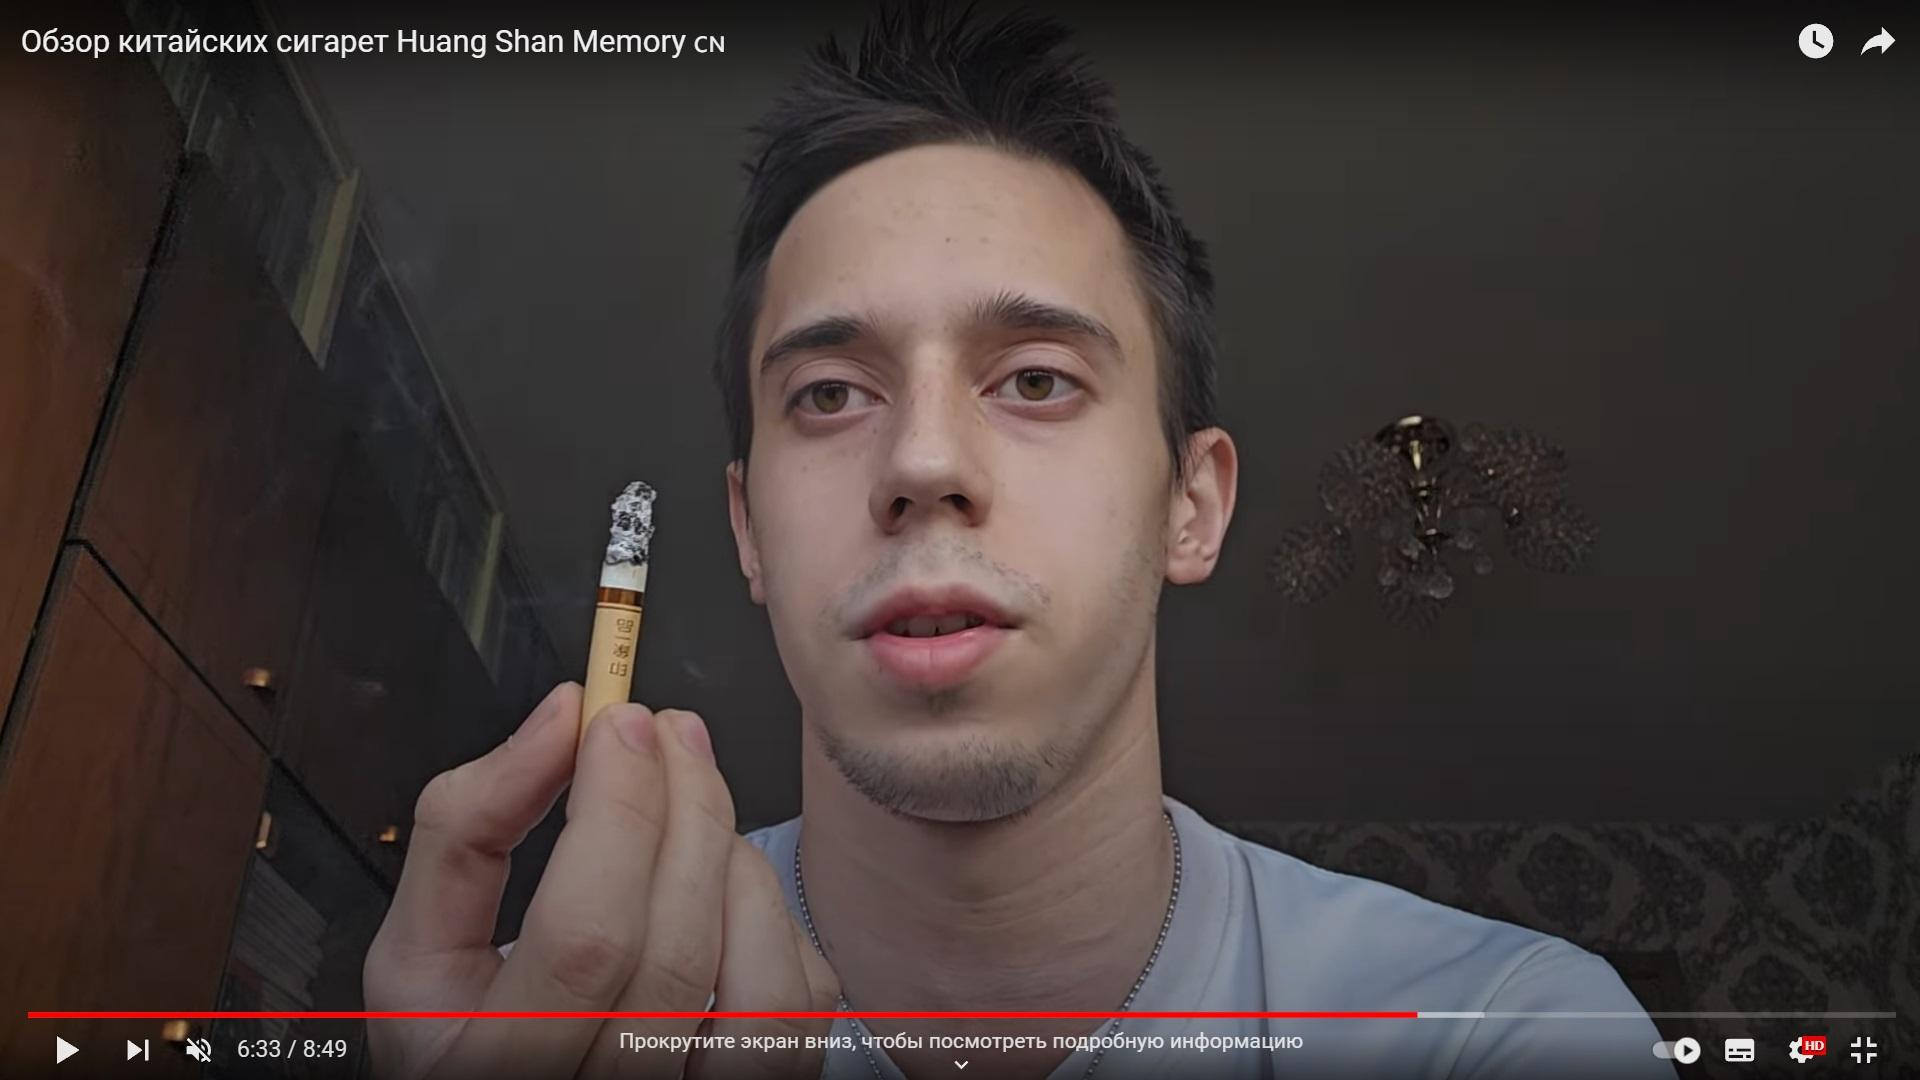cigarette: (576, 480, 654, 754)
